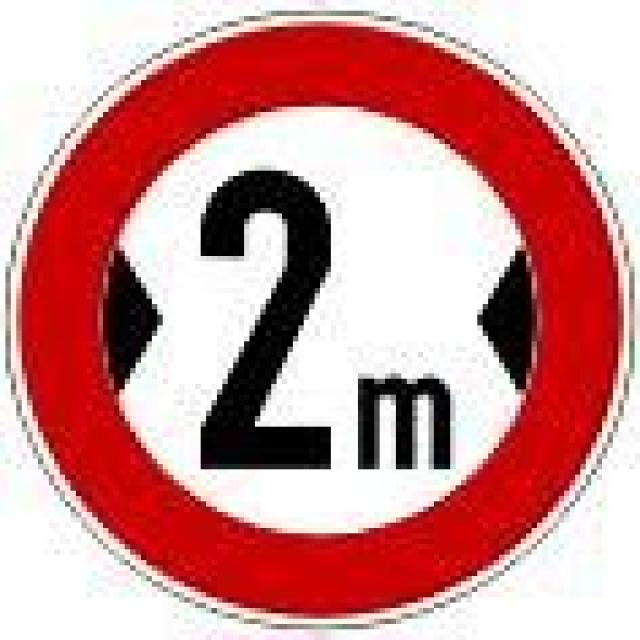WIDTH_LIMIT: (3, 0, 640, 640)
